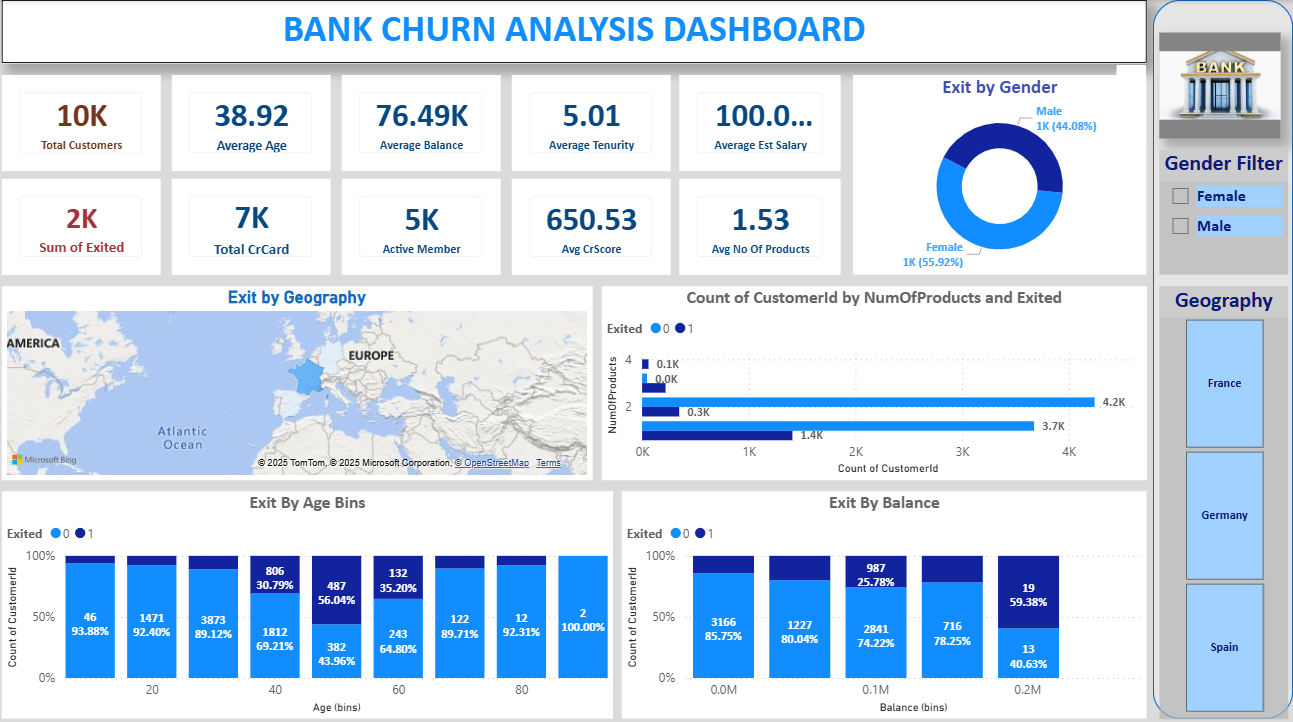

What the dashboard file says about the page in this screenshot:
{"tool":"powerbi","page":{"name":"Page 1","canvas":[1280,720],"ordinal":0},"visuals":[{"type":"textbox","box":[8.6,0,1123.9,62.6],"z":0},{"type":"shape","box":[1138.7,0,137.4,705.5],"z":1000},{"type":"image","box":[1144.8,31.9,119,104.3],"z":2000},{"type":"cardVisual","fields":{"Data":["Count(Churn_Modelling.CustomerId)"]},"box":[8.6,73.6,155.8,94.5],"z":3000},{"type":"cardVisual","fields":{"Data":["Avg(Churn_Modelling.Age)"]},"box":[175.5,73.6,155.8,94.5],"z":4000},{"type":"cardVisual","fields":{"Data":["Avg(Churn_Modelling.Tenure)"]},"box":[509.2,73.6,155.8,94.5],"z":5000},{"type":"cardVisual","fields":{"Data":["Avg(Churn_Modelling.EstimatedSalary)"]},"box":[673.6,73.6,170.6,94.5],"z":6000},{"type":"cardVisual","fields":{"Data":["Avg(Churn_Modelling.Balance)"]},"box":[342.3,73.6,155.8,94.5],"z":7000},{"type":"cardVisual","fields":{"Data":["Sum(Churn_Modelling.Exited)"]},"box":[8.6,175.5,155.8,94.5],"z":8000},{"type":"cardVisual","fields":{"Data":["Sum(Churn_Modelling.HasCrCard)"]},"box":[175.6,175.9,155.8,94.5],"z":9000},{"type":"cardVisual","fields":{"Data":["Avg(Churn_Modelling.CreditScore)"]},"box":[509.4,175.9,155.8,94.5],"z":10000},{"type":"cardVisual","fields":{"Data":["Avg(Churn_Modelling.NumOfProducts)"]},"box":[673.6,175.5,170.6,94.5],"z":11000},{"type":"cardVisual","fields":{"Data":["Sum(Churn_Modelling.IsActiveMember)"]},"box":[342.5,175.9,155.8,94.5],"z":12000},{"type":"slicer","title":"Gender Filter","fields":{"Values":["Churn_Modelling.Gender"]},"box":[1144.8,147.2,126.4,122.7],"z":13000},{"type":"slicer","title":"Geography","fields":{"Values":["Churn_Modelling.Geography"]},"box":[1144.8,281,126.4,424.5],"z":14000},{"type":"donutChart","title":"Exit by Gender","fields":{"Category":["Churn_Modelling.Gender"],"Y":["Sum(Churn_Modelling.Exited)"]},"box":[852.8,73.6,279.8,196.3],"z":15000},{"type":"filledMap","title":" Exit by Geography","fields":{"Category":["Churn_Modelling.Geography"]},"box":[8.6,281,579.1,190.2],"z":16000},{"type":"hundredPercentStackedColumnChart","title":"Exit By Age Bins","fields":{"Category":["Churn_Modelling.Age (bins)"],"Y":["Count(Churn_Modelling.CustomerId)"],"Series":["Churn_Modelling.Exited"]},"box":[8.6,482.2,600,223.3],"z":17000},{"type":"clusteredBarChart","fields":{"Category":["Churn_Modelling.NumOfProducts"],"Y":["Count(Churn_Modelling.CustomerId)"],"Series":["Churn_Modelling.Exited"]},"box":[597.5,281,535,190.2],"z":18000},{"type":"hundredPercentStackedColumnChart","title":"Exit By Balance","fields":{"Category":["Churn_Modelling.Balance (bins)"],"Y":["CountNonNull(Churn_Modelling.CustomerId)"],"Series":["Churn_Modelling.Exited"]},"box":[617.2,482.2,515.3,223.3],"z":19000}]}

Visuals, with their boxes in screenshot pixels (x1, y1, x2, y2), scaled from the page's 1280x720 canvas onto the 1293x722 screenshot:
textbox: 9/0/1144/63
shape: 1150/0/1289/707
image: 1156/32/1277/137
cardVisual - Count(Churn_Modelling.CustomerId): 9/74/166/169
cardVisual - Avg(Churn_Modelling.Age): 177/74/335/169
cardVisual - Avg(Churn_Modelling.Tenure): 514/74/672/169
cardVisual - Avg(Churn_Modelling.EstimatedSalary): 680/74/853/169
cardVisual - Avg(Churn_Modelling.Balance): 346/74/503/169
cardVisual - Sum(Churn_Modelling.Exited): 9/176/166/271
cardVisual - Sum(Churn_Modelling.HasCrCard): 177/176/335/271
cardVisual - Avg(Churn_Modelling.CreditScore): 515/176/672/271
cardVisual - Avg(Churn_Modelling.NumOfProducts): 680/176/853/271
cardVisual - Sum(Churn_Modelling.IsActiveMember): 346/176/503/271
"Gender Filter" slicer: 1156/148/1284/271
"Geography" slicer: 1156/282/1284/707
"Exit by Gender" donutChart: 861/74/1144/271
" Exit by Geography" filledMap: 9/282/594/473
"Exit By Age Bins" hundredPercentStackedColumnChart: 9/484/615/707
clusteredBarChart - Churn_Modelling.NumOfProducts x Count(Churn_Modelling.CustomerId): 604/282/1144/473
"Exit By Balance" hundredPercentStackedColumnChart: 623/484/1144/707
